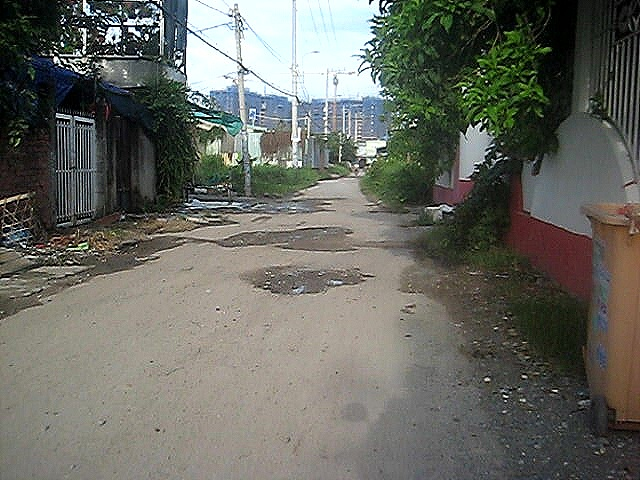hole: (235, 262, 376, 295), (223, 225, 353, 252), (247, 196, 347, 214), (251, 216, 272, 223)
